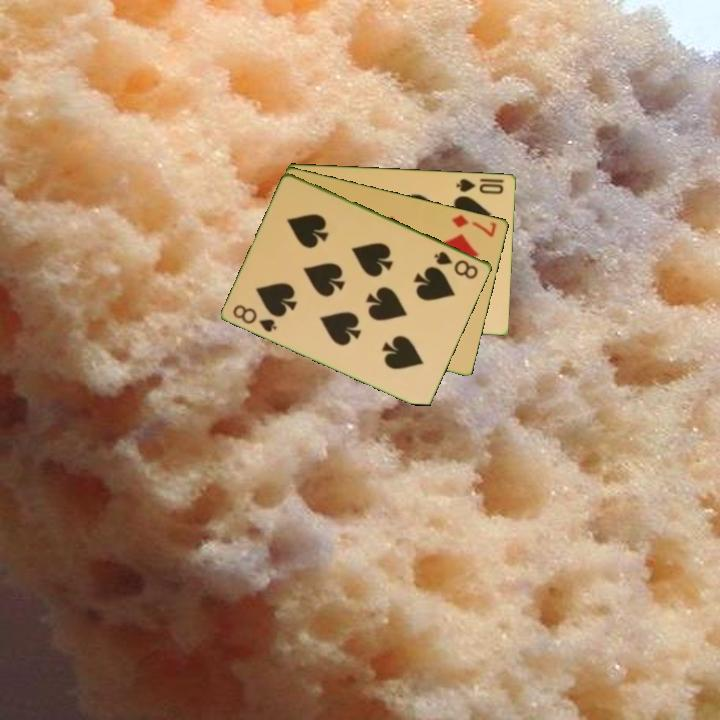10s: (453, 175, 507, 197)
7d: (448, 211, 500, 239)
8s: (431, 247, 481, 282), (230, 301, 280, 335)
